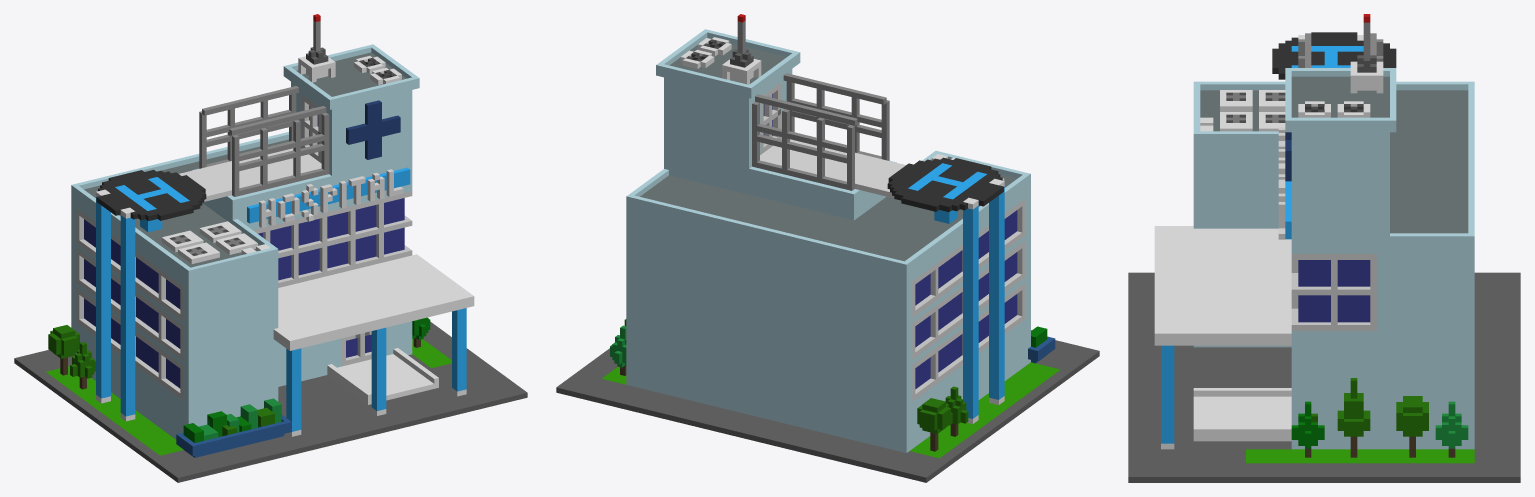
Rendered from Hospital.obj.
The picture shows the model from 3 angles, left to right: view 1: azimuth 30°, elevation 25°; view 2: azimuth 150°, elevation 25°; view 3: azimuth 270°, elevation 25°; orthographic projection. The views are drawn at different scales.
Size of the model in its own units: 7.4 by 6.8 by 6.
Materials: 1 (1 with a texture image).
